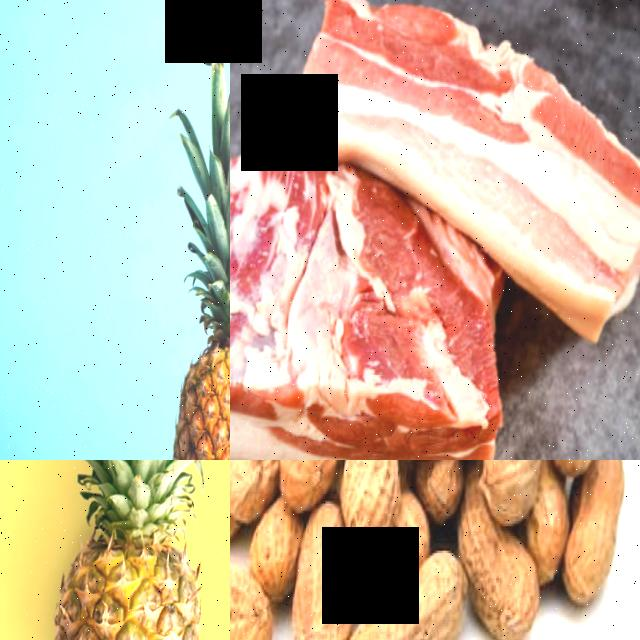peanuts: (293, 503, 353, 640), (469, 535, 546, 640), (567, 474, 628, 603), (338, 460, 401, 552), (340, 596, 449, 640), (484, 460, 546, 524), (230, 460, 288, 515), (281, 460, 342, 500)
pineapple: (41, 460, 214, 640), (163, 289, 230, 460)
pork belly: (282, 0, 640, 340), (230, 155, 512, 460)
